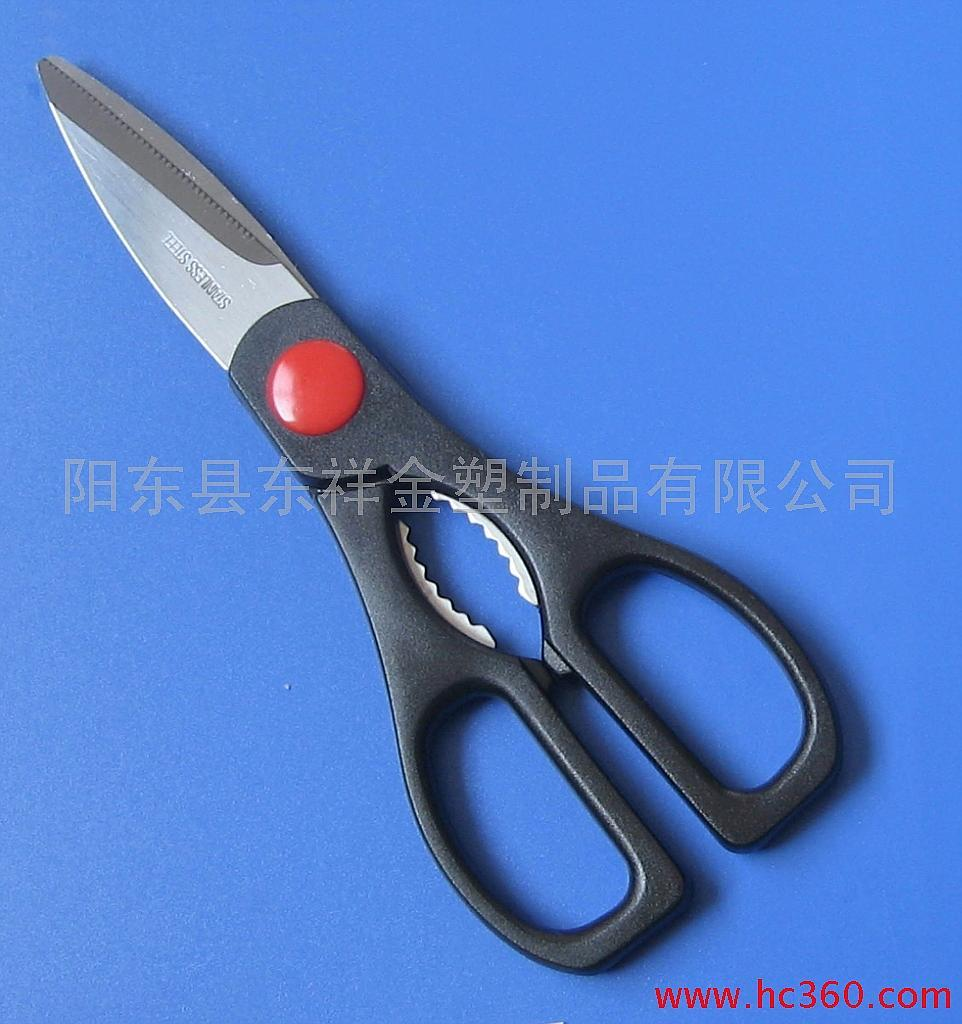scissor: (54, 28, 875, 958)
